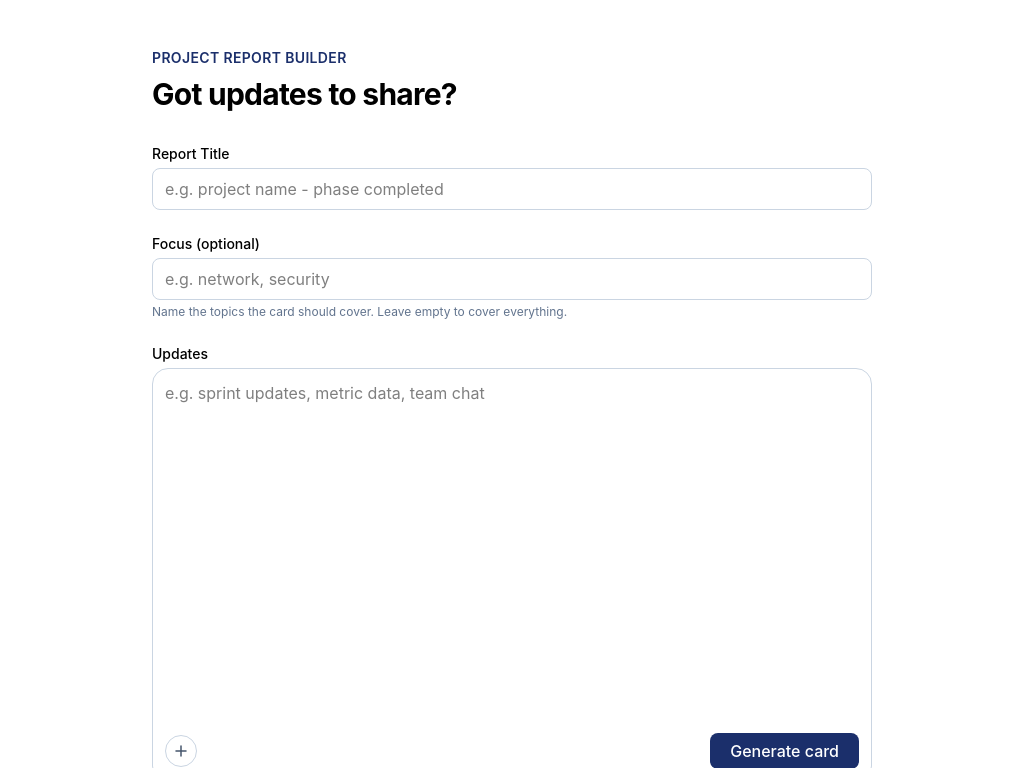
Test: card flow › shows a warning under the flagged block
In the text box labelled "Updates": (512, 554) [165,381,859,727], type "Atlas finished early."
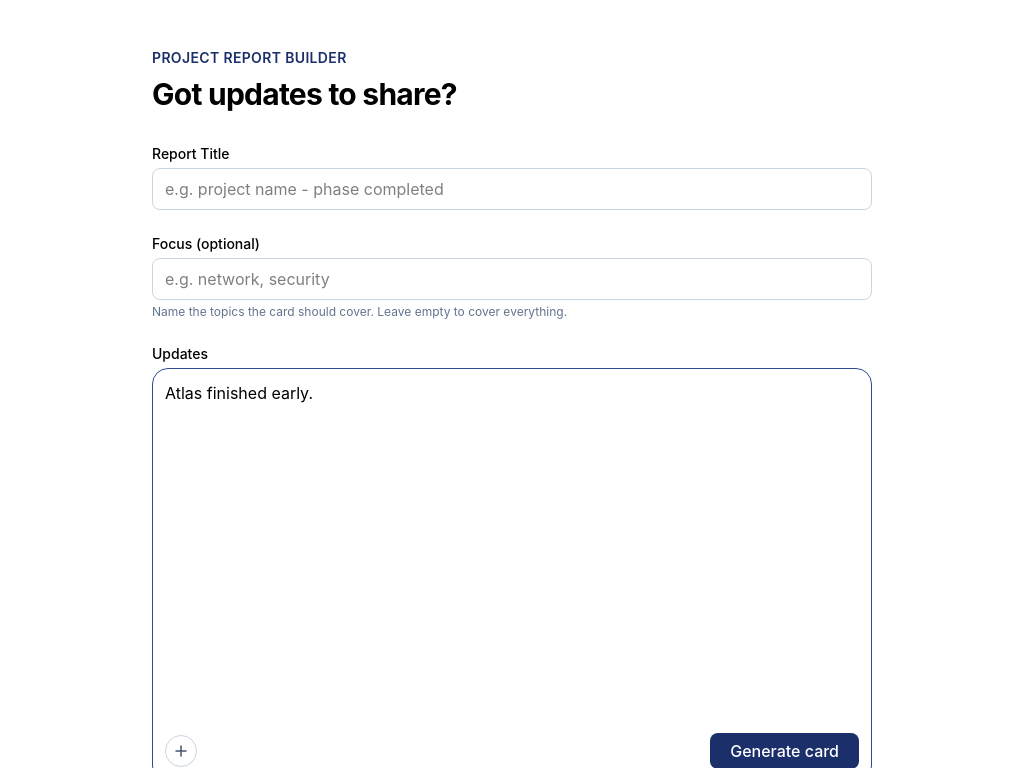
Click the button "Generate card": (785, 751) [710,733,859,767]
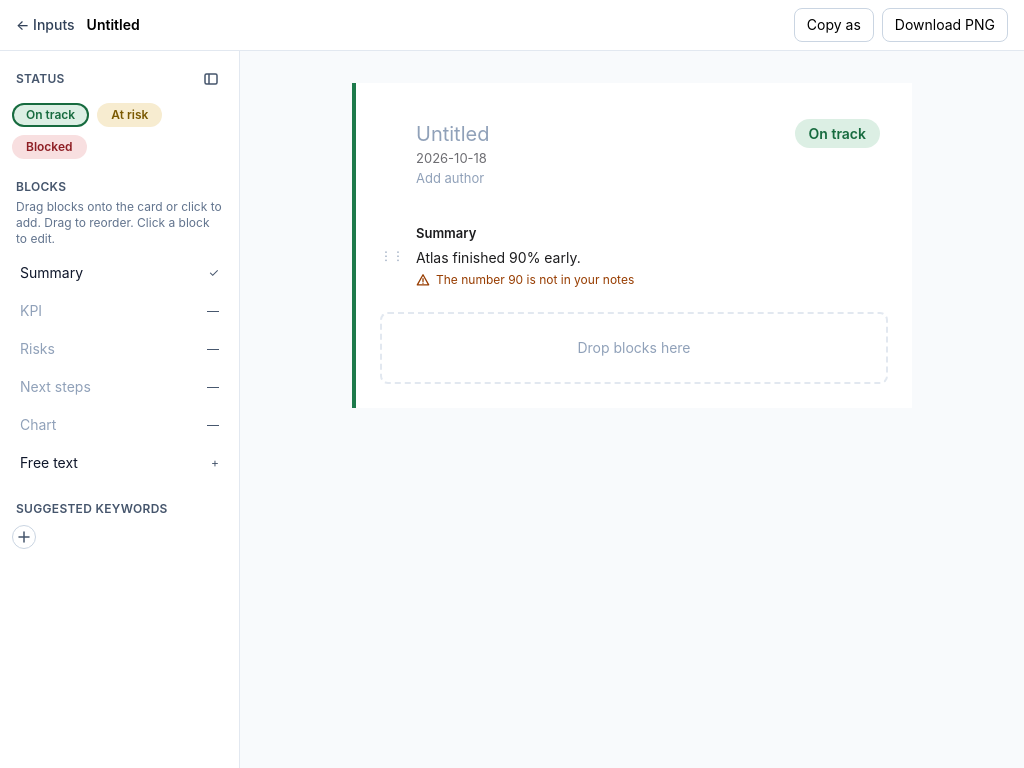
Now the text "The number 90 is not in your notes" is shown, box [436,272,634,288]
